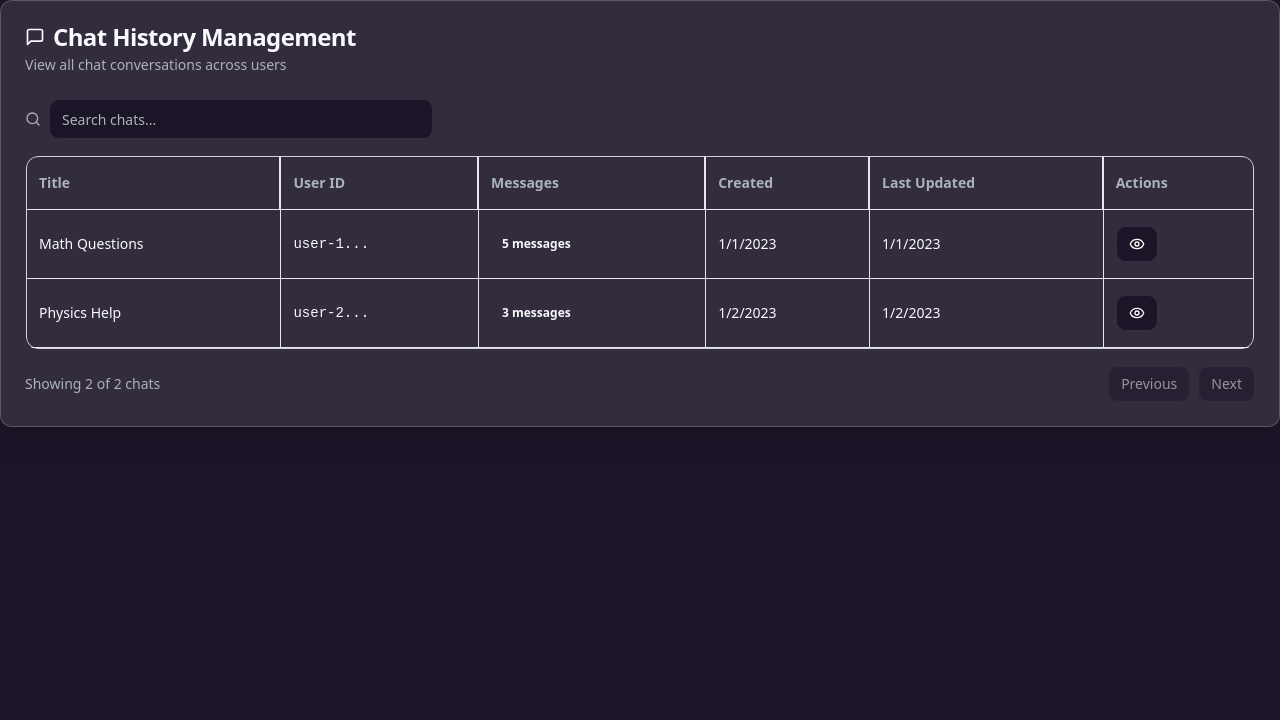
AdminChatHistory › should open chat details dialog when view button clicked
The image size is (1280, 720).
Expected: the text "Math Questions" is shown, [27,210,281,279]
Click the button without text in the row of "Math Questions".
click(1137, 244)  # box [1116,226,1158,262]
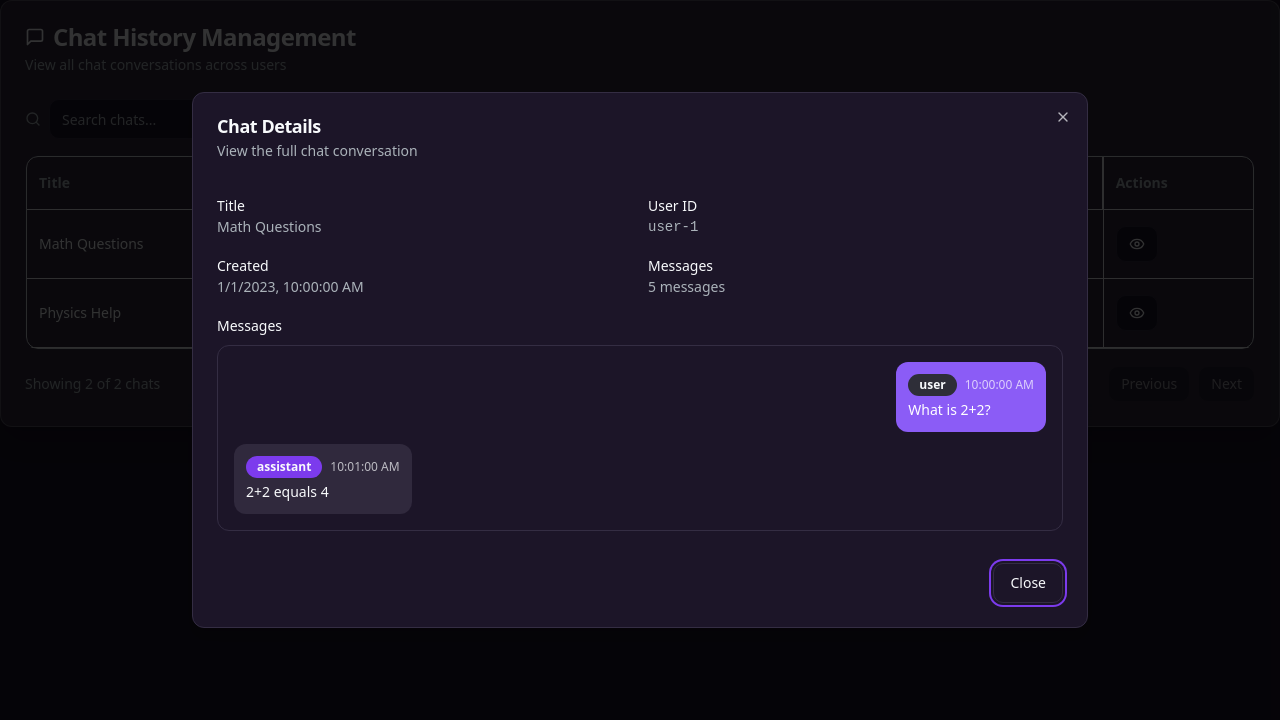
Result: the text "What is 2+2?" is shown at [908,400,991,419]
Result: the text "2+2 equals 4" is shown at [246,482,329,501]
